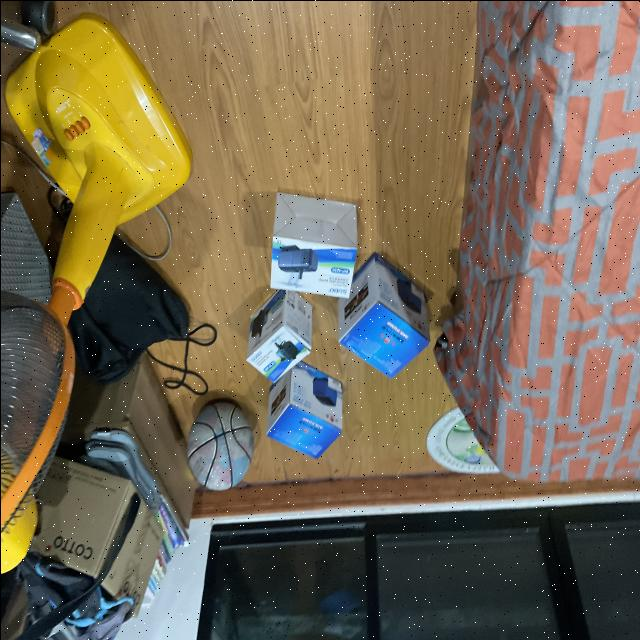SOBO_WP_4200: (256, 192, 363, 306), (222, 280, 324, 392)
YAMANO_LPP_20: (335, 250, 428, 380), (264, 339, 352, 448)
